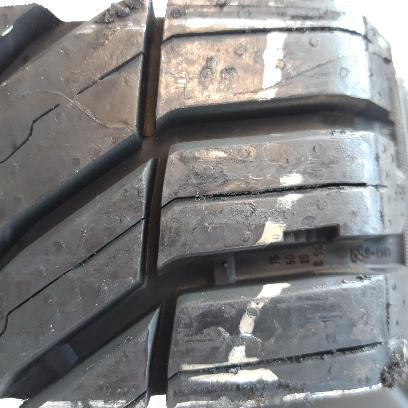temoin:100: (268, 223, 342, 253)
